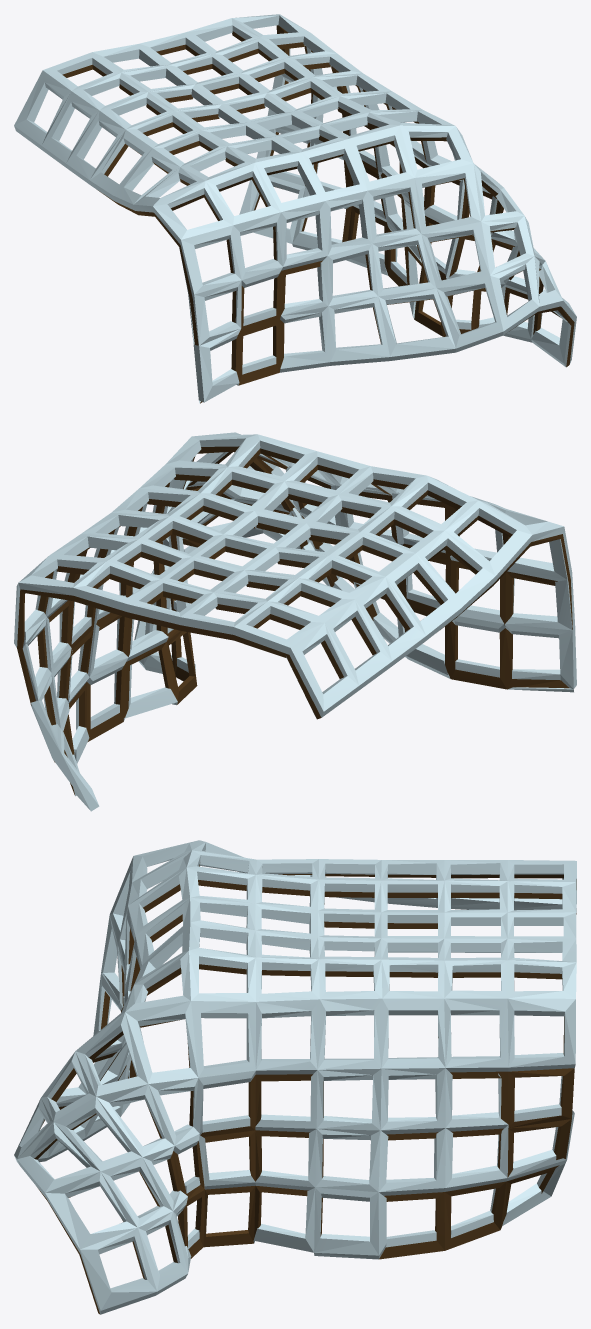
File: Red_Pesca02.glb
3 renders of one model, top to bottom at view 1: azimuth 30°, elevation 25°; view 2: azimuth 150°, elevation 25°; view 3: azimuth 270°, elevation 25°, orthographic. The views are drawn at different scales.
Parts seen in each view (by area): view 1: SM_Prop_Net_02_Snow; view 2: SM_Prop_Net_02_Snow; view 3: SM_Prop_Net_02_Snow.
Part boxes in pixels (box(x1,y1,x2,y2)): SM_Prop_Net_02_Snow: box(14, 14, 576, 403); SM_Prop_Net_02_Snow: box(14, 432, 576, 811); SM_Prop_Net_02_Snow: box(14, 840, 576, 1314).
Size of the model in its own units: 1.89 by 1.17 by 2.07.
Materials: 1 (1 with a texture image).
